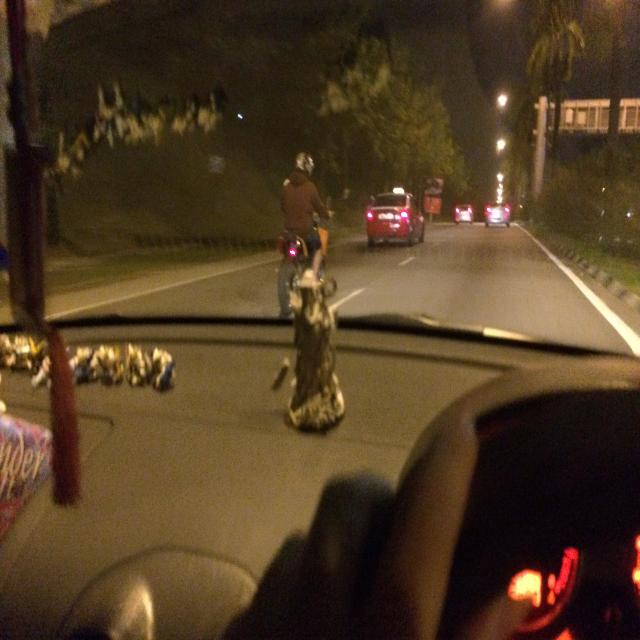Motorbike: (268, 223, 351, 320)
People: (280, 138, 333, 304)
car: (363, 167, 423, 264), (481, 198, 522, 244), (450, 199, 479, 228)
